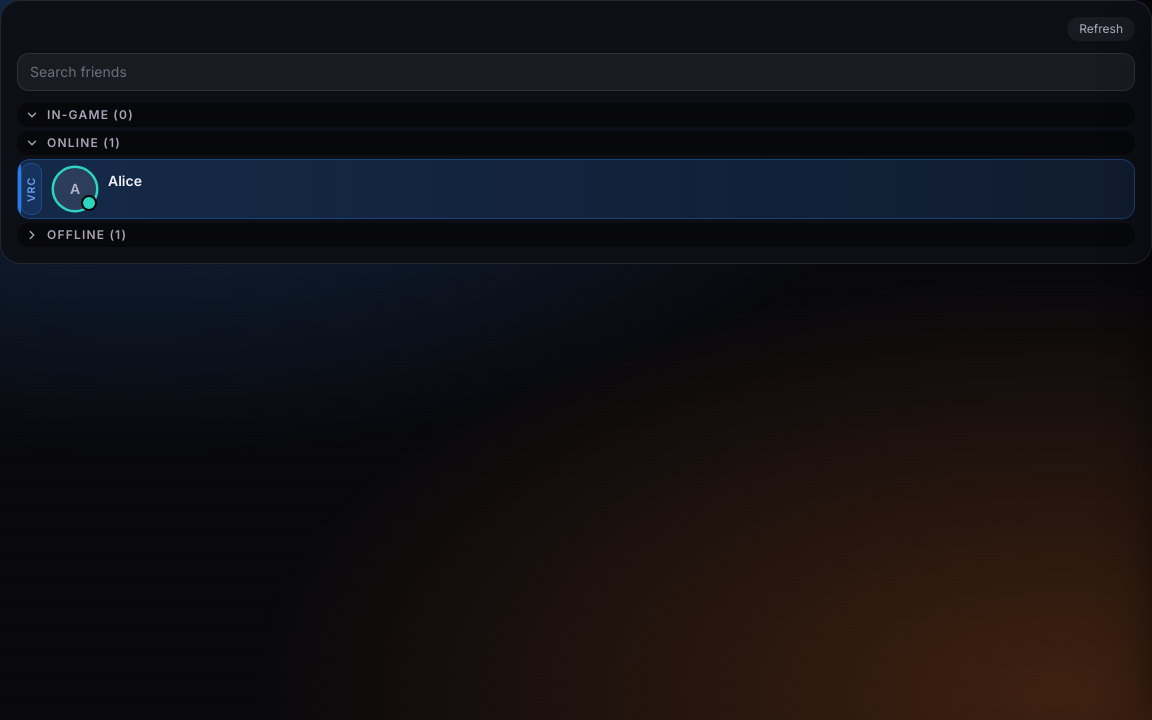
it: FriendsList search (VRX-65) › ignores section collapse during search and restores it after clear
The image size is (1152, 720).
Expected: the text "Zed" is not shown
Type "zed" into the field labelled "Search friends".
click(576, 72); type("zed")  # box [17,53,1135,91]
Wait 200 ms
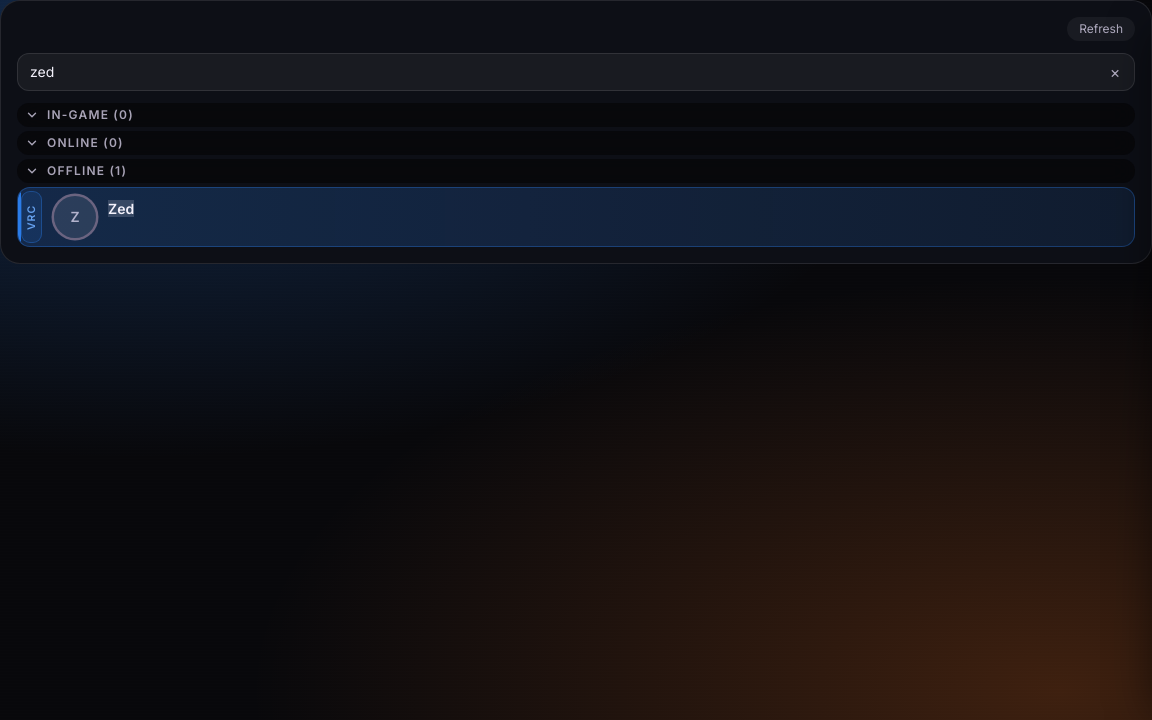
Now the button "Offline (1)" is expanded, box [17,159,1135,183]
Now the text "Zed" is shown, box [108,200,134,216]
Click the button named "Clear search".
click(1115, 72)  # box [1103,60,1127,84]
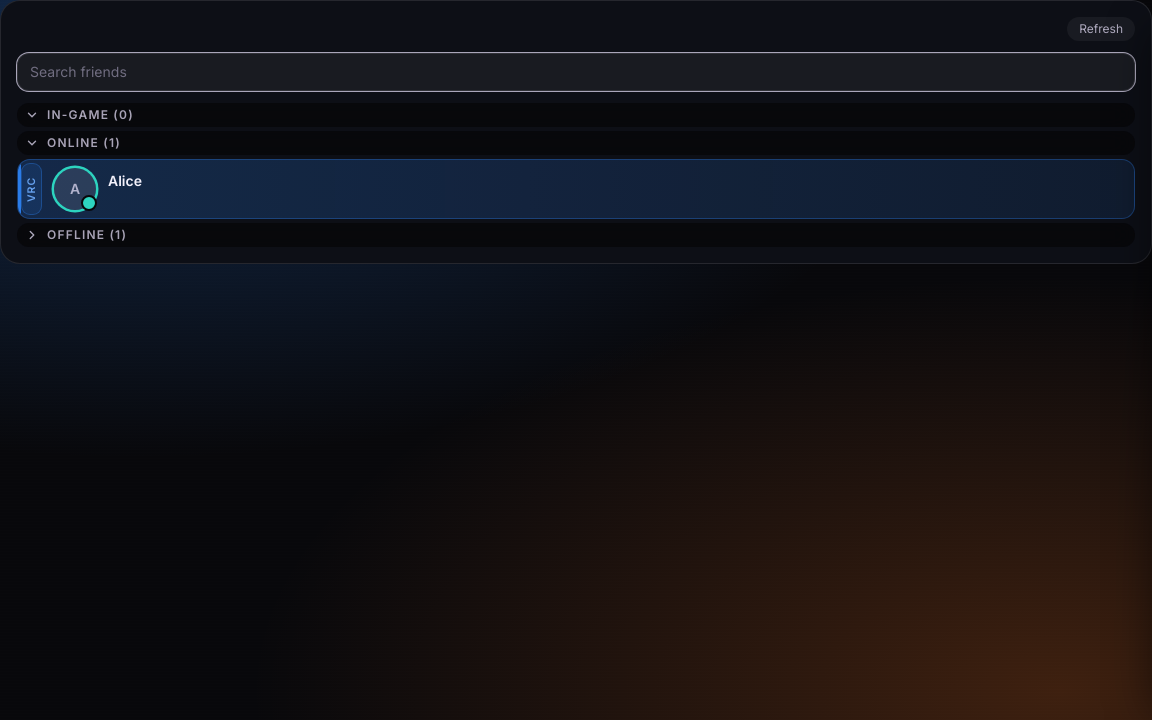
Now the button "Offline (1)" is collapsed, box [17,223,1135,247]
Now the text "Zed" is gone
